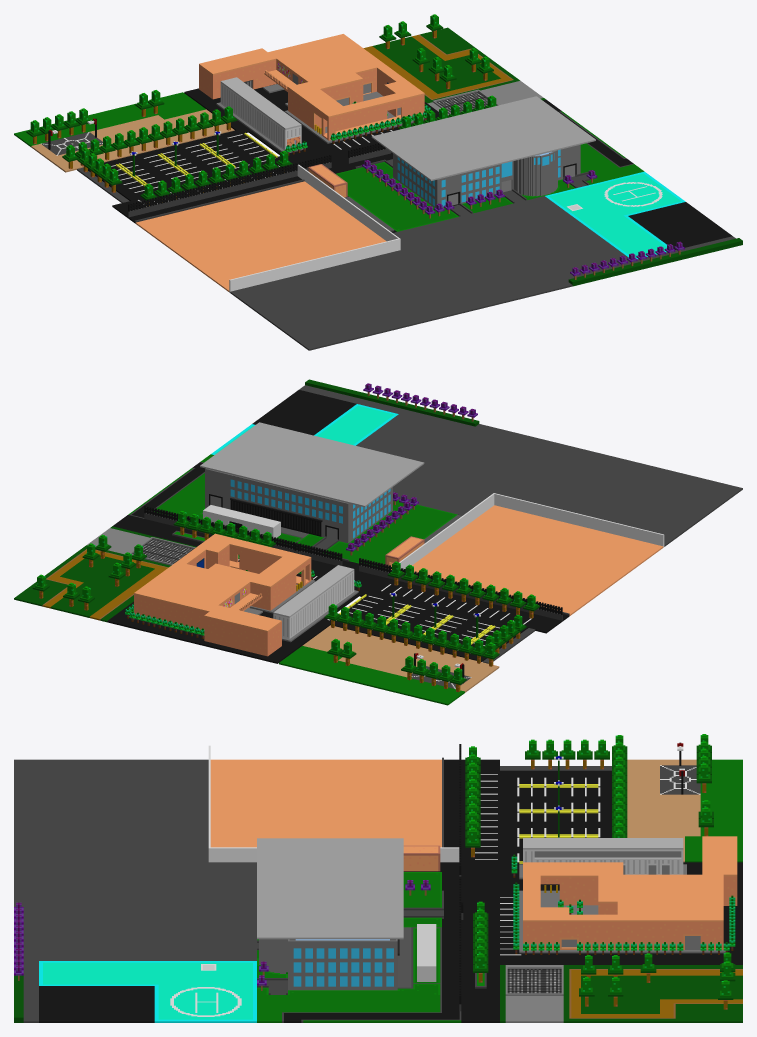
The model's file is Campusfba.fbx.
3 views of the same model, one above another, from view 1: azimuth 30°, elevation 25°; view 2: azimuth 150°, elevation 25°; view 3: azimuth 270°, elevation 25° (orthographic). The views are drawn at different scales.
Visible parts, largest first — view 1: Legorreta_7_Mesh, Legorreta_9_Mesh, Legorreta_5_Mesh, Legorreta_4_Mesh, Legorreta_6_Mesh, Legorreta_8_Mesh, Legorreta_2_Mesh, Mesh, Legorreta_3_Mesh, Legorreta_1_Mesh; view 2: Legorreta_7_Mesh, Legorreta_9_Mesh, Legorreta_5_Mesh, Legorreta_4_Mesh, Legorreta_8_Mesh, Legorreta_6_Mesh, Mesh, Legorreta_2_Mesh, Legorreta_3_Mesh, Legorreta_1_Mesh; view 3: Legorreta_7_Mesh, Legorreta_9_Mesh, Legorreta_6_Mesh, Legorreta_4_Mesh, Legorreta_8_Mesh, Legorreta_5_Mesh, Mesh, Legorreta_2_Mesh, Legorreta_1_Mesh, Legorreta_3_Mesh.
Part boxes in pixels (x1,y1,x2,y2): Legorreta_7_Mesh: (333,95,600,223); Legorreta_9_Mesh: (184,34,438,161); Legorreta_5_Mesh: (112,150,380,278); Legorreta_4_Mesh: (210,224,479,350); Legorreta_6_Mesh: (474,171,742,286); Legorreta_8_Mesh: (14,90,277,202); Legorreta_2_Mesh: (393,213,572,309); Mesh: (363,14,545,115); Legorreta_3_Mesh: (289,151,430,232); Legorreta_1_Mesh: (543,99,644,181); Legorreta_7_Mesh: (156,422,424,577); Legorreta_9_Mesh: (107,533,375,663); Legorreta_5_Mesh: (376,507,644,633); Legorreta_4_Mesh: (474,446,742,560); Legorreta_8_Mesh: (279,590,535,705); Legorreta_6_Mesh: (211,379,479,486); Mesh: (14,526,196,622); Legorreta_2_Mesh: (393,424,572,515); Legorreta_3_Mesh: (343,506,462,590); Legorreta_1_Mesh: (112,454,213,536); Legorreta_7_Mesh: (257,838,499,994); Legorreta_9_Mesh: (500,836,742,964); Legorreta_6_Mesh: (14,902,256,1022); Legorreta_4_Mesh: (14,745,256,862); Legorreta_8_Mesh: (500,734,742,862); Legorreta_5_Mesh: (257,744,499,862); Mesh: (500,952,742,1022); Legorreta_2_Mesh: (14,862,256,918); Legorreta_1_Mesh: (257,980,499,1022); Legorreta_3_Mesh: (403,845,499,892).
Size of the model in its own units: 32.1 by 3.2 by 37.8.
